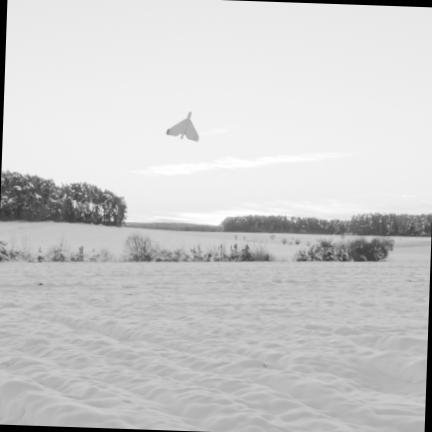Shahed: (167, 112, 199, 141)
